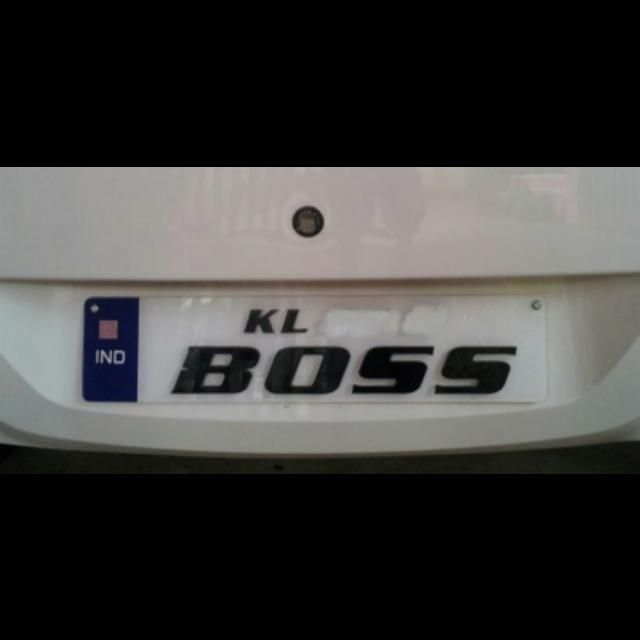carPlate: (84, 296, 546, 402)
